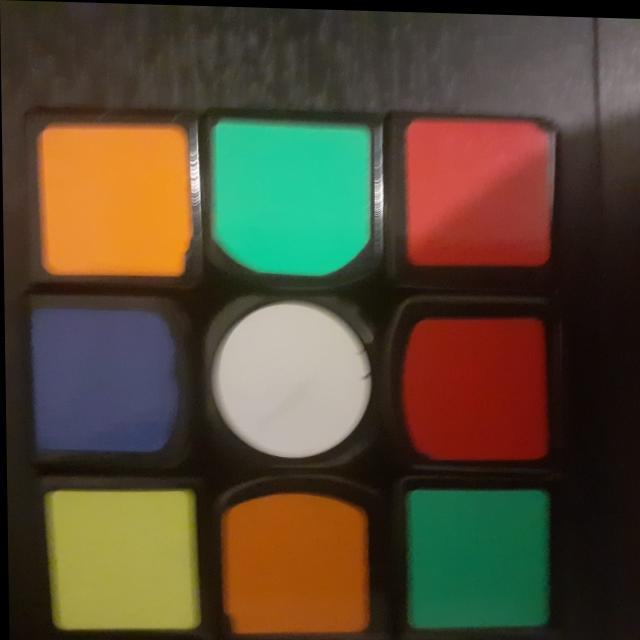Blue: (24, 297, 188, 466)
Green: (210, 114, 379, 288), (394, 482, 557, 636)
Orange: (32, 108, 203, 289), (211, 486, 380, 640)
Red: (387, 294, 554, 476), (390, 113, 560, 285)
White: (195, 300, 381, 475)
Yellow: (24, 478, 205, 639)
